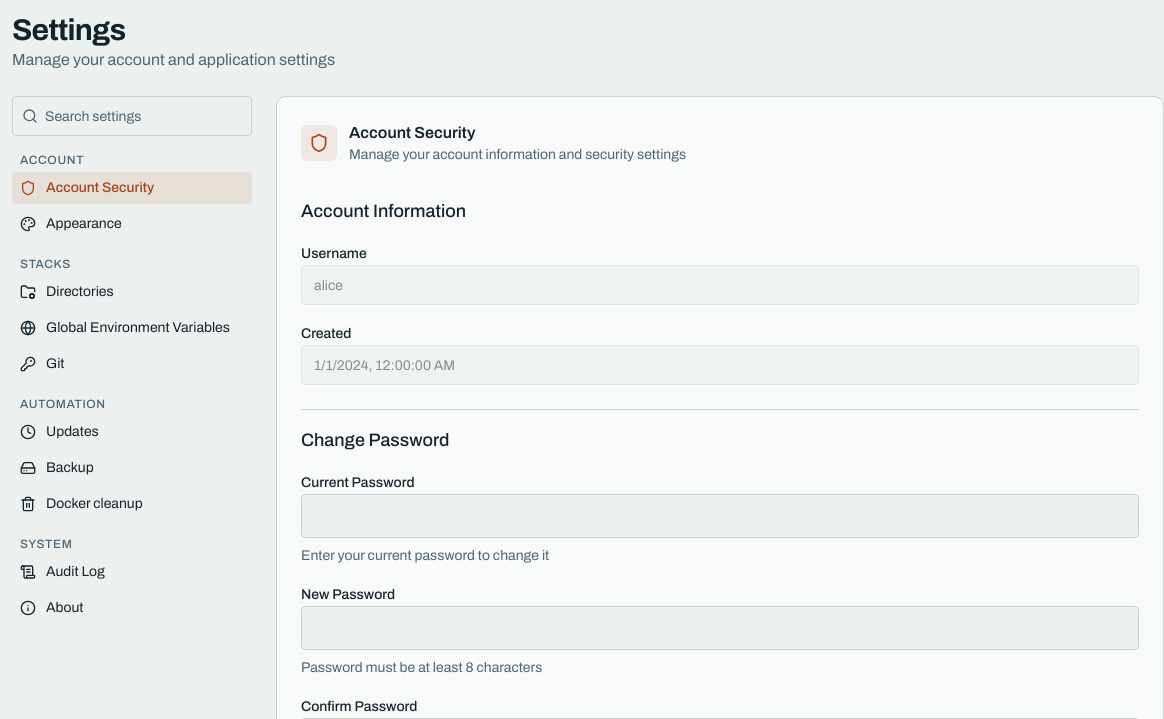
Test: SettingsPage › section routing › finds exactly one link when searching for "cleanup"
Type "cleanup" into the field labelled "Search settings" at [132, 116], box [12,96,252,136]
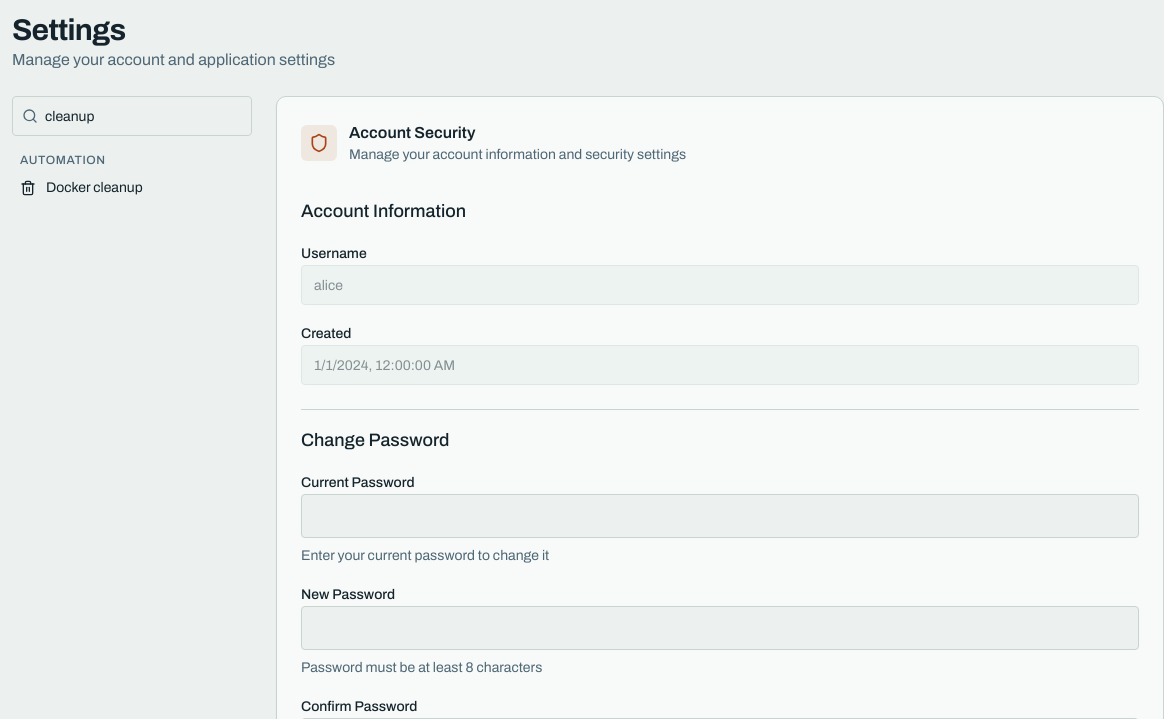
Check: the number of links is 1, box [20,180,143,196]
